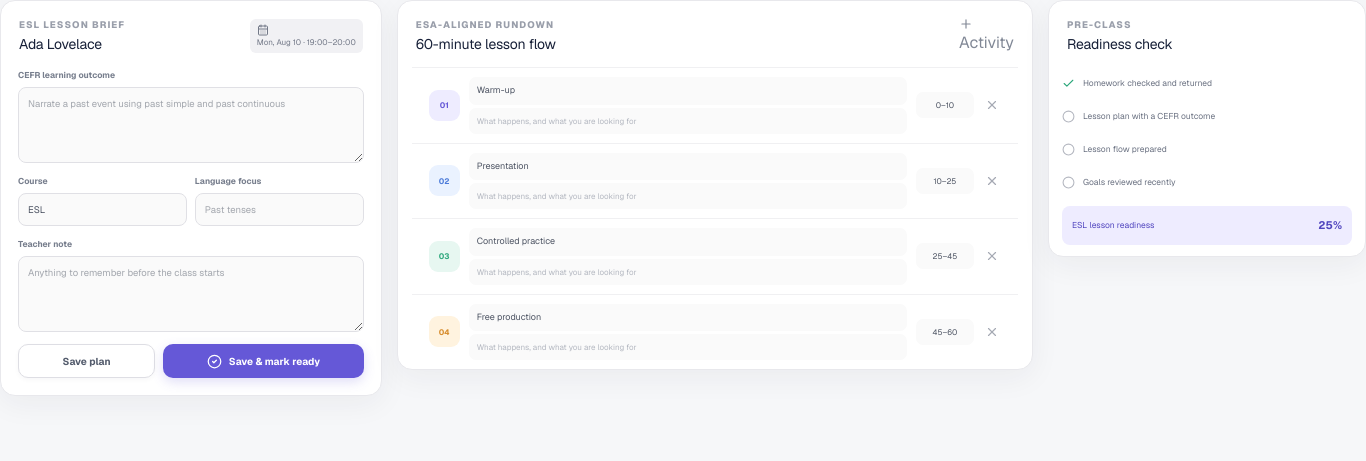
lesson preparation › reports a rejection from the database rather than claiming success
Type "Narrate a past holiday" into the text box with placeholder "Narrate a past event using past simple and past continuous" at (191, 125), box [18,87,364,163]
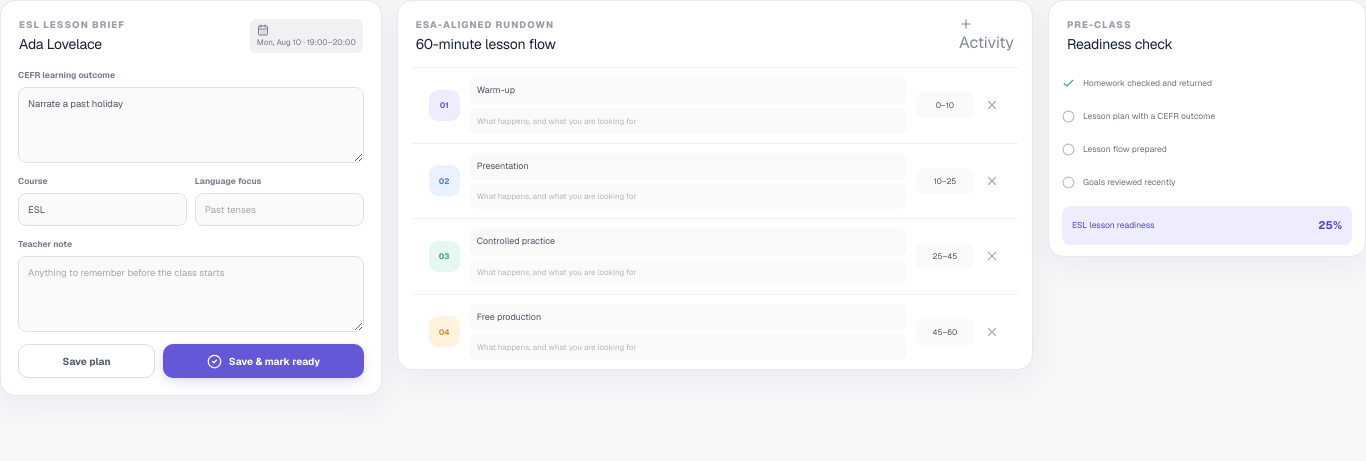
Click the button "Save plan" at (87, 361), box [18,344,155,378]
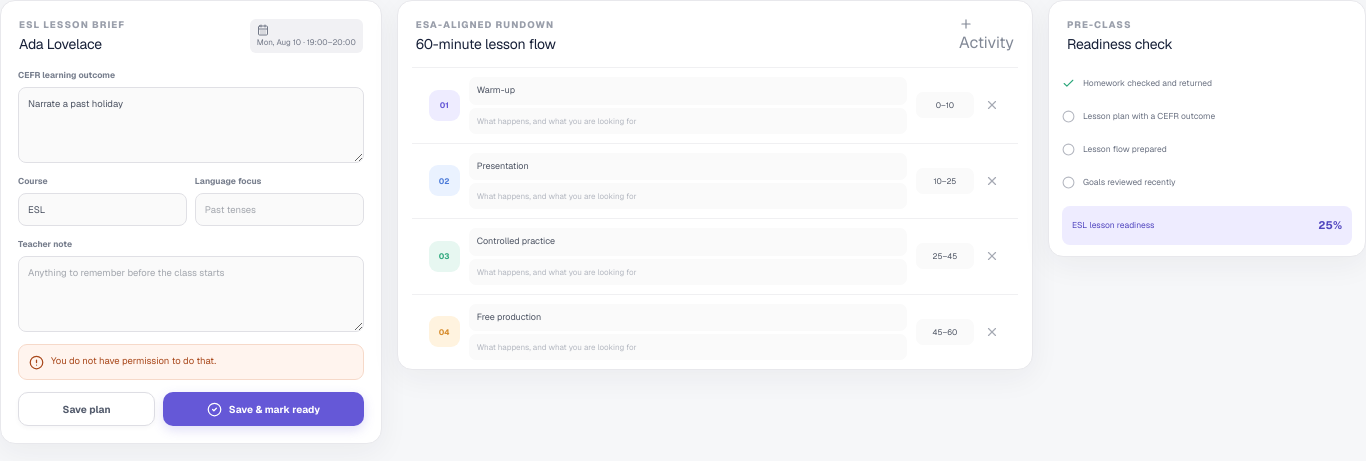
Check: the message shows "You do not have permission", box [51,354,216,367]
